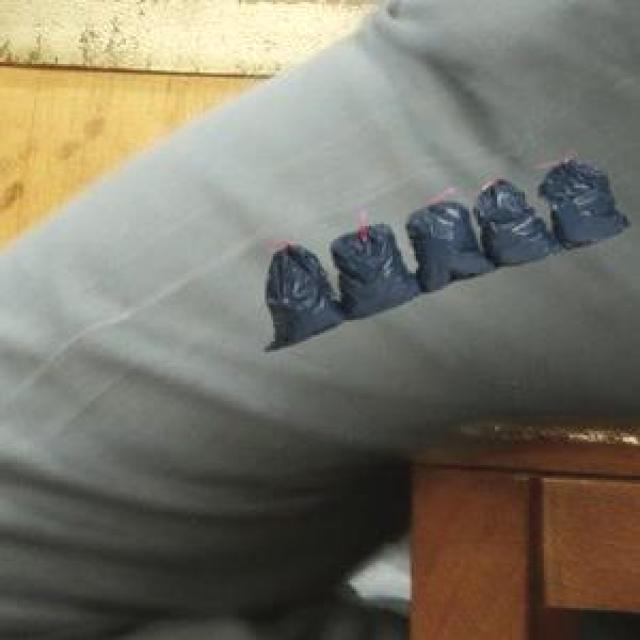Trashbag: (318, 232, 432, 332), (244, 246, 318, 346), (555, 168, 629, 251), (417, 214, 493, 294), (484, 185, 555, 269)
